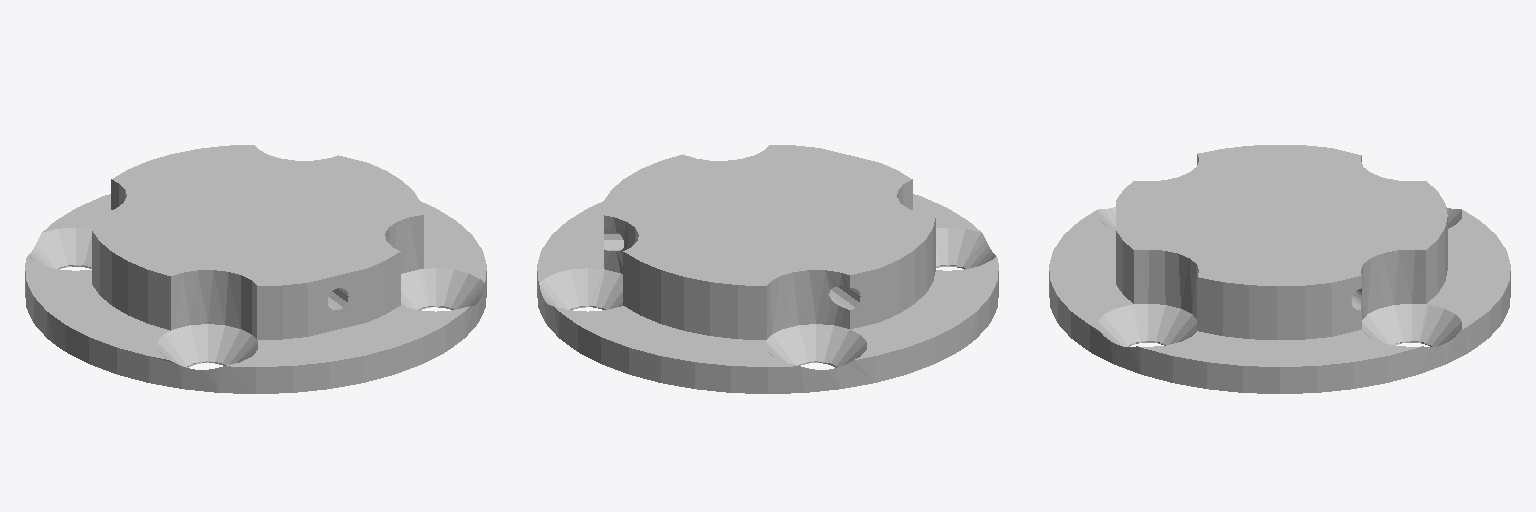
The model's file is tesollo_left_ll_dg_mount_visuals_ll_dg_mount_mesh_World_mesh.obj.
3 renders of one model, left to right at view 1: azimuth 30°, elevation 25°; view 2: azimuth 150°, elevation 25°; view 3: azimuth 270°, elevation 25°, orthographic.
Bounding box in the file's own units: 0.062 × 0.012 × 0.0619.